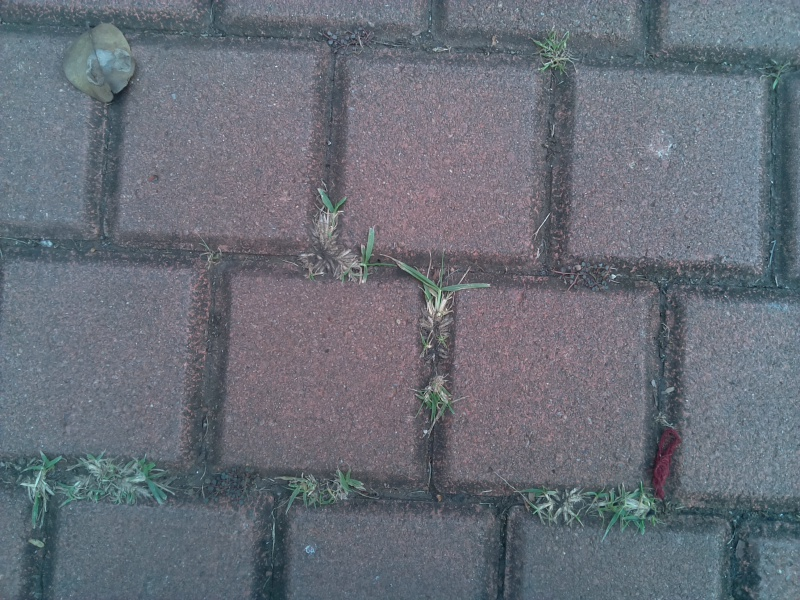Weed: (305, 186, 382, 289), (70, 447, 177, 518), (399, 261, 462, 368), (15, 445, 60, 537), (513, 479, 584, 536), (553, 251, 626, 305), (282, 464, 362, 513), (591, 483, 662, 538), (195, 462, 267, 511), (414, 371, 464, 435), (526, 27, 579, 82), (758, 48, 793, 97), (189, 233, 230, 274)
